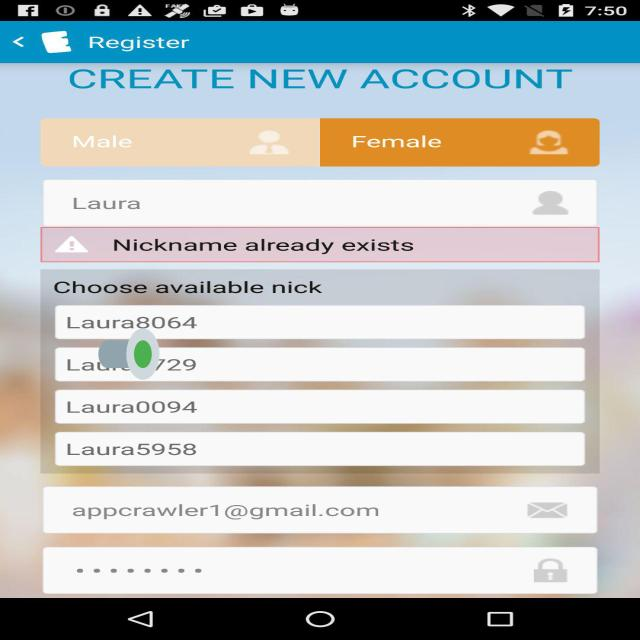social proof: (99, 306, 160, 402)
